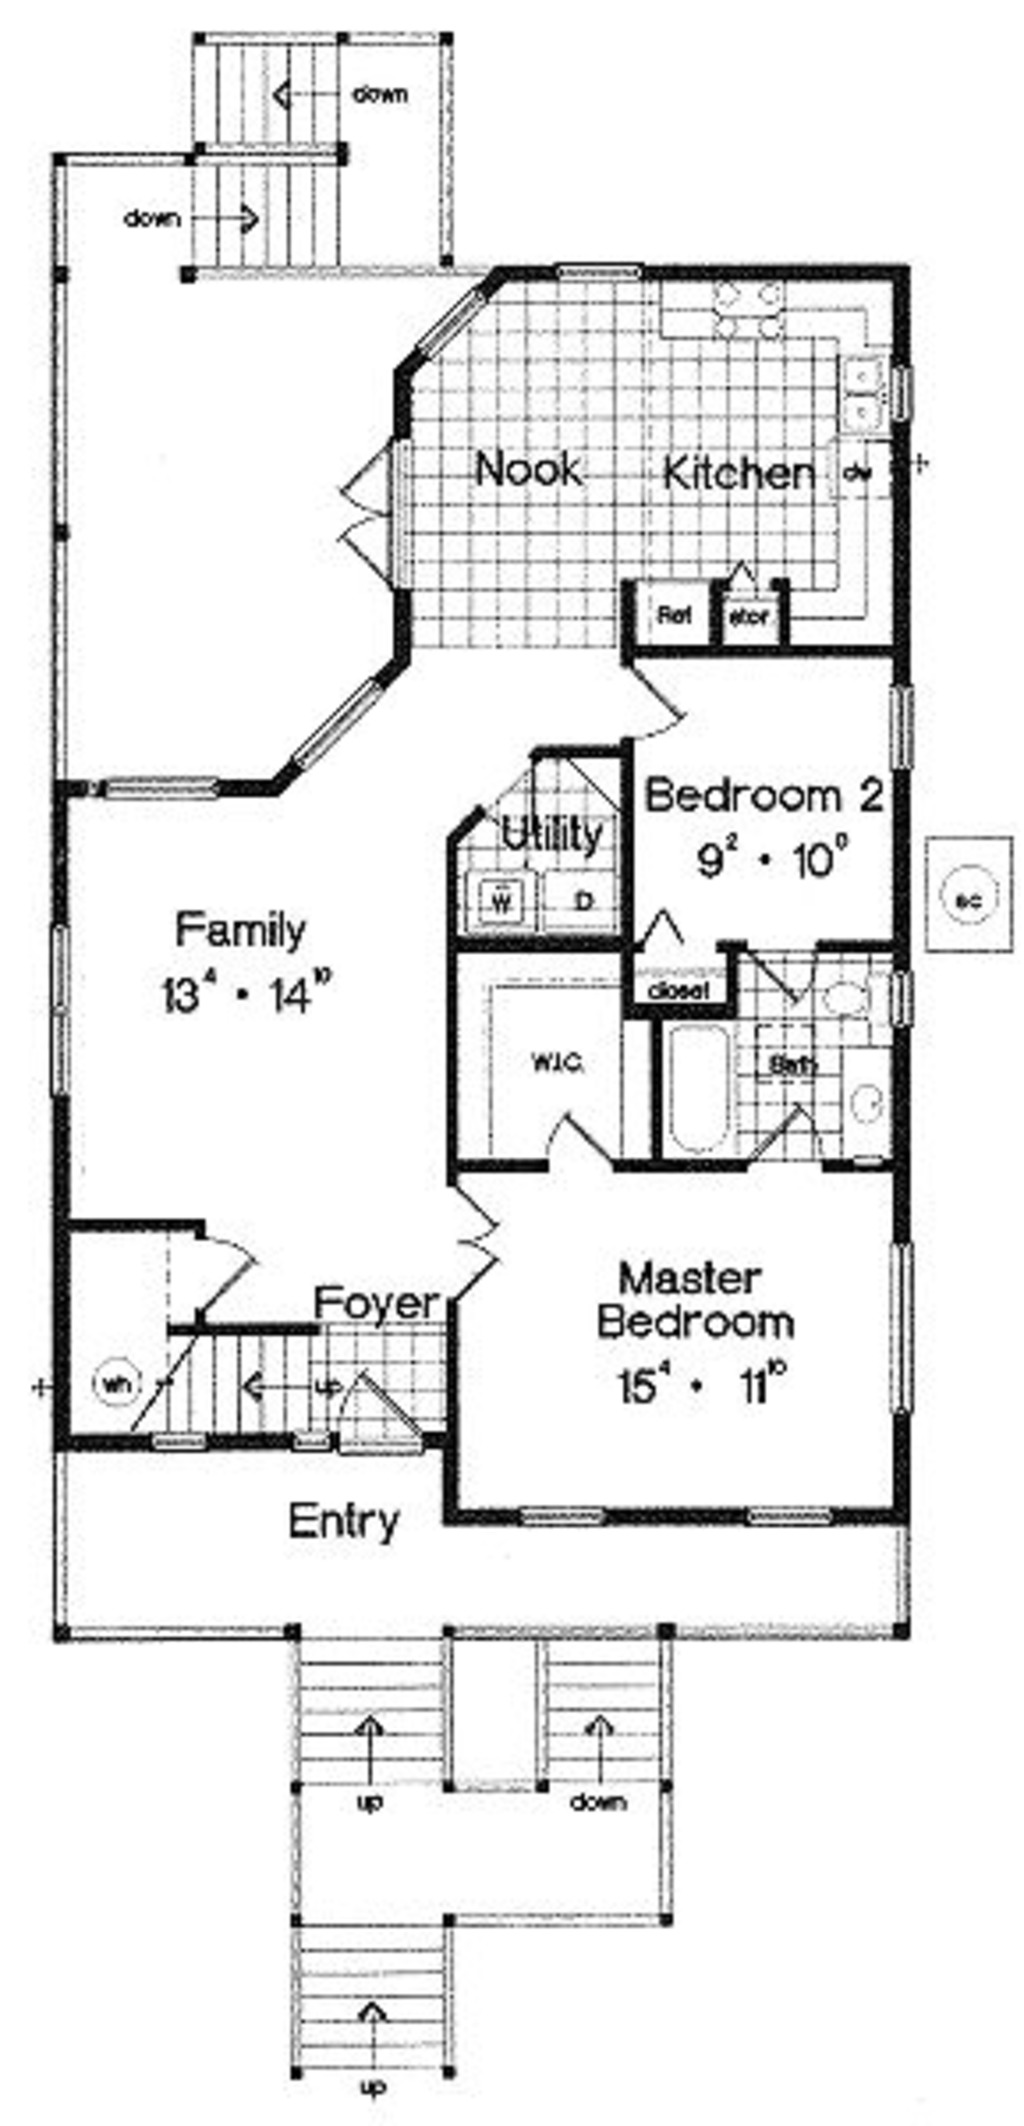door: (315, 435, 397, 580), (438, 1180, 506, 1304), (524, 1094, 614, 1180), (174, 1235, 258, 1312), (614, 664, 688, 746)
small_sink: (838, 1049, 890, 1167)
stairs: (285, 1626, 675, 2089), (179, 30, 462, 278)
tub: (647, 1020, 732, 1176)
windows: (882, 1241, 929, 1426), (33, 912, 75, 1104), (742, 1491, 835, 1546), (88, 774, 224, 808), (882, 674, 920, 771), (510, 1494, 613, 1529)
